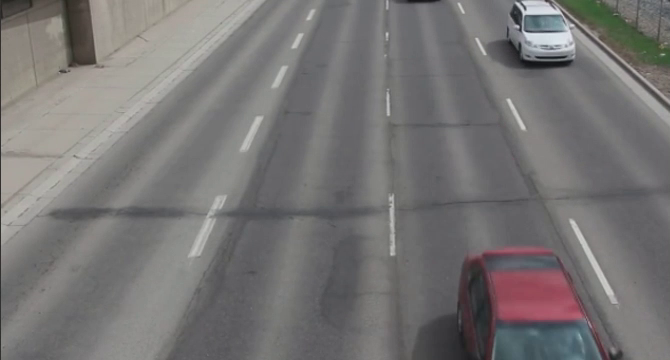car: (459, 245, 626, 360), (503, 1, 590, 62)
